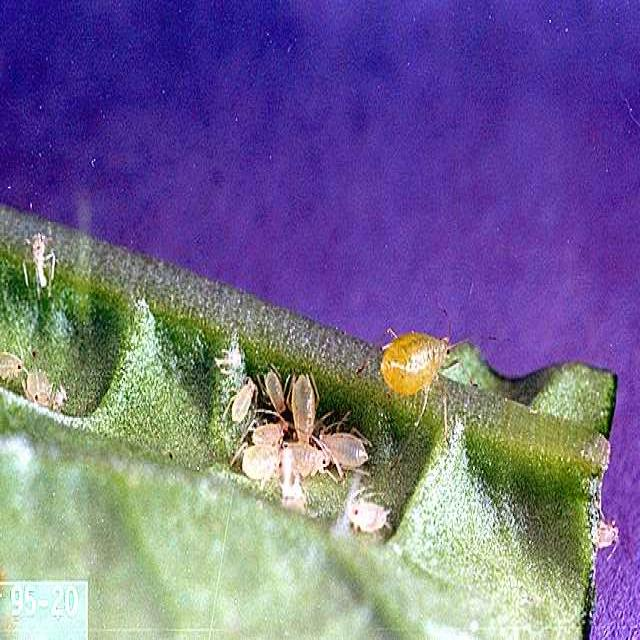Aphid-Grown-: (368, 306, 468, 432), (307, 413, 383, 496), (280, 356, 324, 444)
